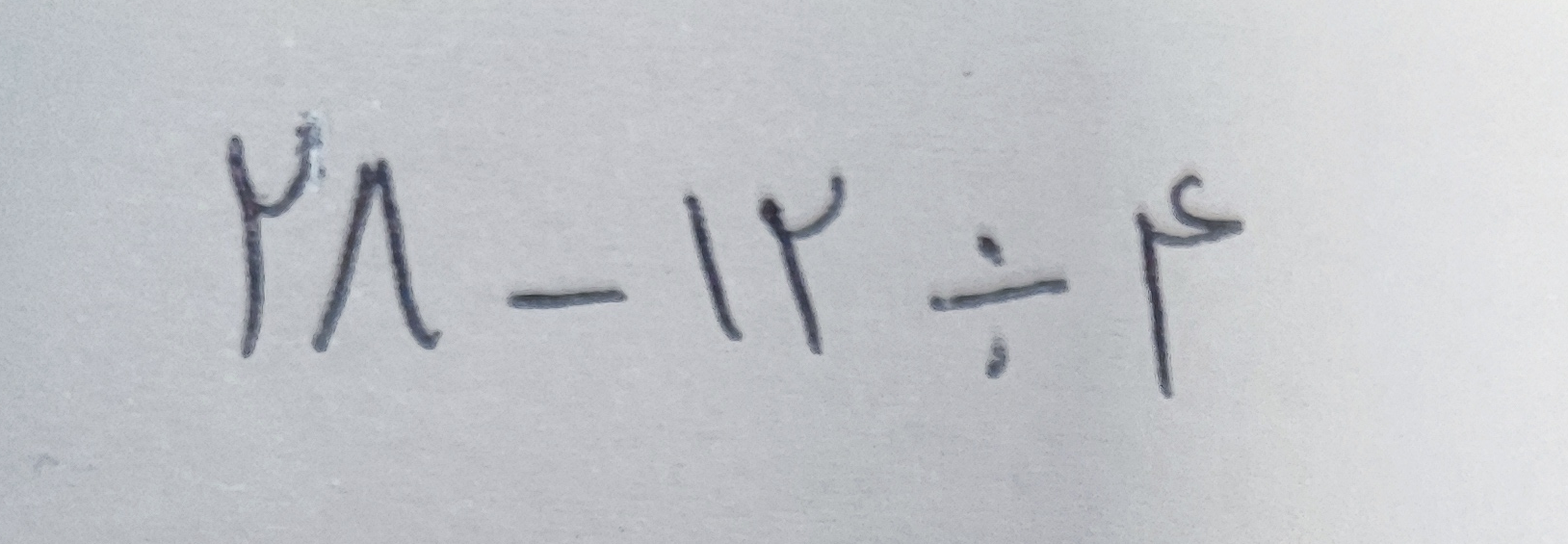character: (1095, 158, 1254, 416), (309, 129, 461, 356), (204, 71, 311, 362), (898, 227, 1075, 392), (748, 159, 861, 367), (657, 178, 748, 356), (488, 270, 644, 312)
